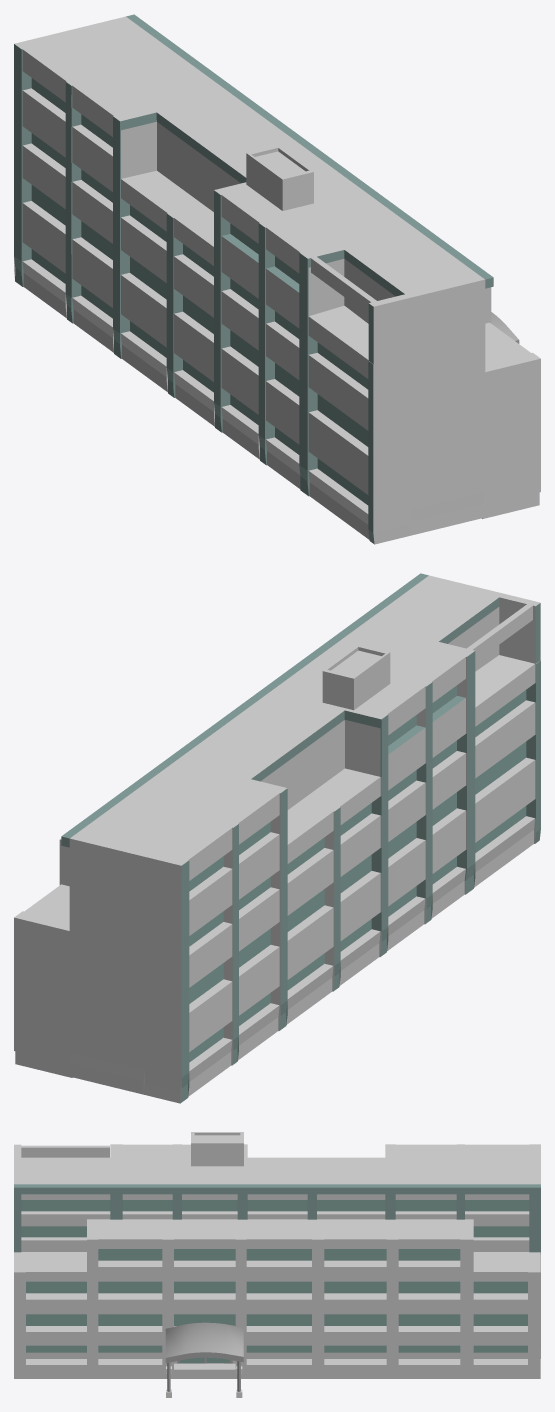
Rendered from Honkan.fbx.
3 renders of one model, top to bottom at view 1: azimuth 30°, elevation 25°; view 2: azimuth 150°, elevation 25°; view 3: azimuth 270°, elevation 25°, orthographic. The views are drawn at different scales.
Visible parts, largest first — view 1: Cube, 立方体; view 2: Cube, 立方体; view 3: 立方体, Cube, 立方体.005.
Part boxes in pixels (x1,y1,x2,y2): Cube: [14, 14, 493, 544]; 立方体: [482, 287, 540, 518]; Cube: [61, 573, 540, 1103]; 立方体: [14, 839, 72, 1077]; 立方体: [14, 1219, 540, 1378]; Cube: [14, 1132, 540, 1358]; 立方体.005: [165, 1322, 243, 1363].
Bounding box in the file's own units: 1850 × 1918 × 4619.
